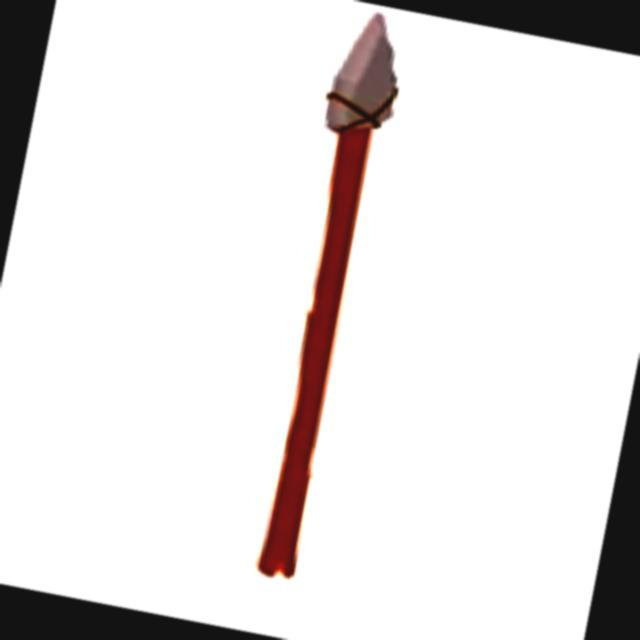spear: (183, 0, 468, 606)
